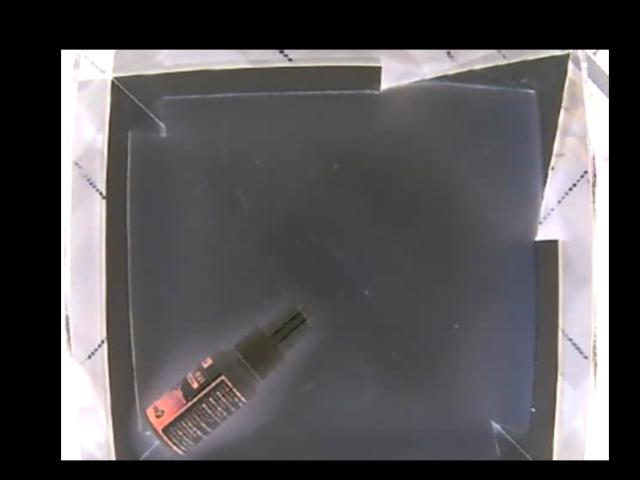Bottle: (141, 301, 312, 454)
